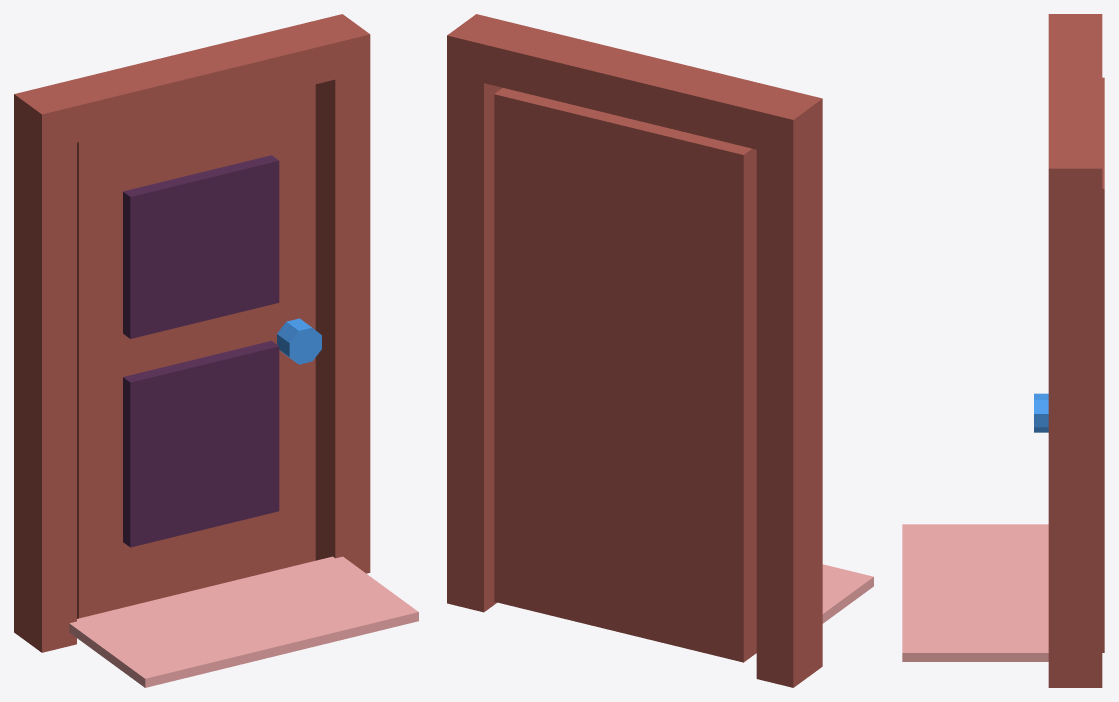
The model's file is doorway-front.obj.
The picture shows the model from 3 angles, left to right: view 1: azimuth 30°, elevation 25°; view 2: azimuth 150°, elevation 25°; view 3: azimuth 270°, elevation 25°; orthographic projection. The views are drawn at different scales.
Visible parts, largest first — view 1: cozy-door-slab, left-frame, lower-panel, right-frame, tiny-welcome-mat, upper-panel, top-frame, round-knob; view 2: cozy-door-slab, left-frame, right-frame, top-frame, tiny-welcome-mat; view 3: right-frame, tiny-welcome-mat, top-frame, cozy-door-slab, round-knob.
Part boxes in pixels (box(x1,y1,x2,y2)): cozy-door-slab: box(77, 84, 315, 618); left-frame: box(14, 110, 76, 652); lower-panel: box(123, 340, 279, 547); right-frame: box(315, 71, 370, 573); tiny-welcome-mat: box(69, 556, 418, 687); upper-panel: box(123, 155, 279, 338); top-frame: box(14, 14, 370, 150); round-knob: box(277, 318, 321, 364); cozy-door-slab: box(494, 88, 756, 662); left-frame: box(756, 116, 822, 687); right-frame: box(447, 52, 502, 612); top-frame: box(447, 14, 822, 157); tiny-welcome-mat: box(822, 564, 873, 623); right-frame: box(1048, 184, 1102, 687); tiny-welcome-mat: box(902, 524, 1048, 661); top-frame: box(1048, 14, 1102, 203); cozy-door-slab: box(1102, 77, 1104, 652); round-knob: box(1034, 393, 1048, 432).
Size of the model in its own units: 1.5 by 2.35 by 0.83.
